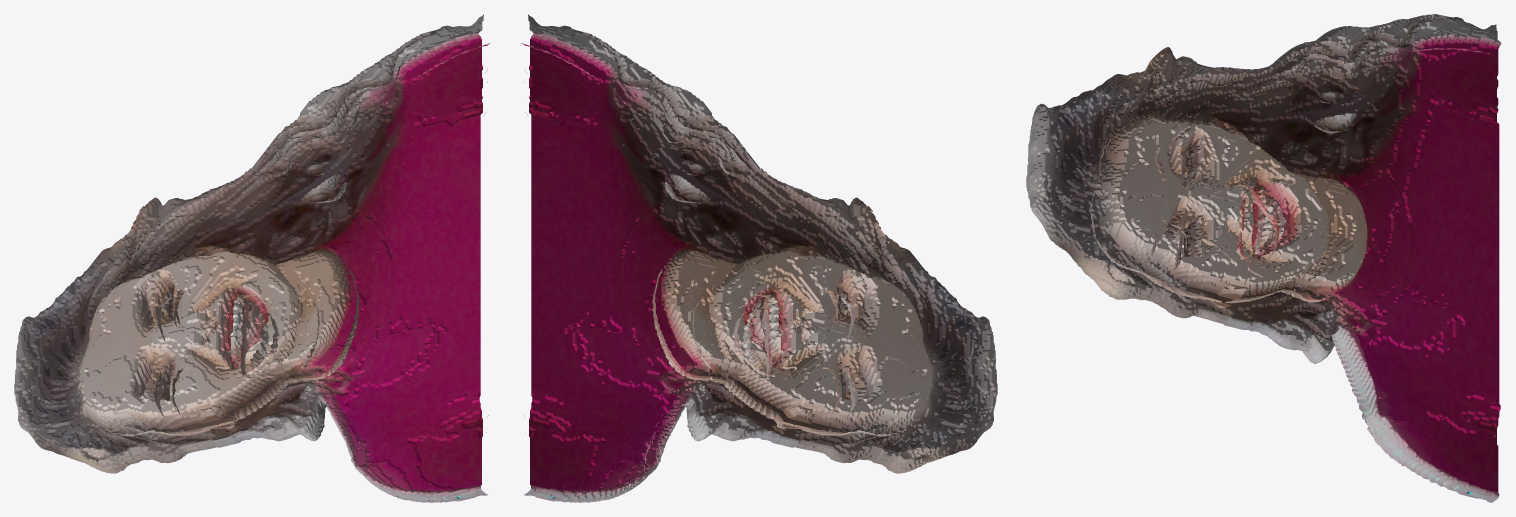
The picture shows the model from 3 angles, left to right: view 1: azimuth 30°, elevation 25°; view 2: azimuth 150°, elevation 25°; view 3: azimuth 330°, elevation 25°; orthographic projection.
Visible parts, largest first — view 1: geometry_0; view 2: geometry_0; view 3: geometry_0.
Part boxes in pixels (<box>): geometry_0: <box>14,14,490,502</box>; geometry_0: <box>521,14,997,502</box>; geometry_0: <box>1026,14,1501,502</box>.
Bounding box in the file's own units: 238 × 233 × 29.6.
